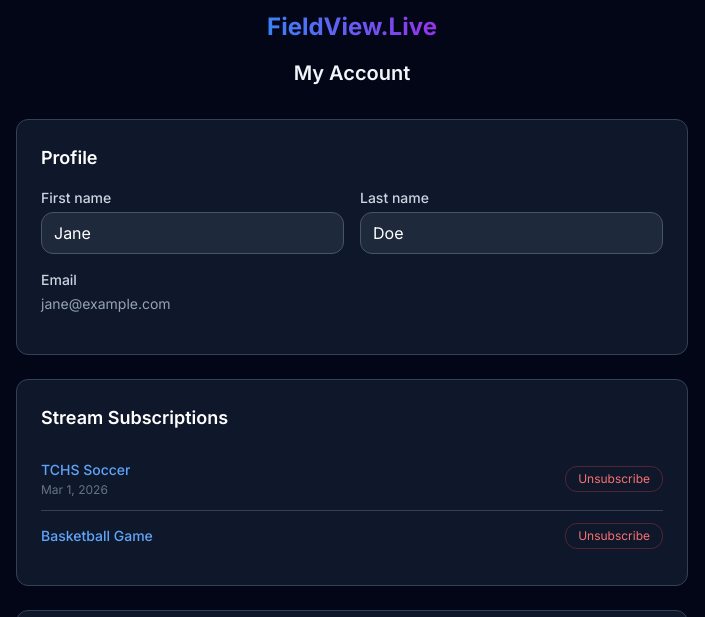
Test: Account Page › Subscriptions section › should remove subscription on Unsubscribe click
Click the button with test id "btn-unsub-tchs-soccer" at (614, 479), box [565, 466, 663, 492]
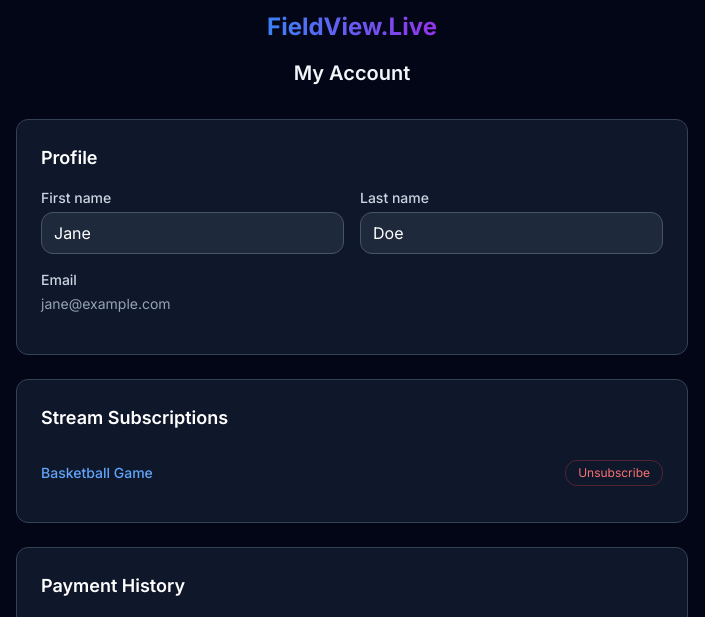
Check: the list item with test id "sub-tchs-soccer" is gone
